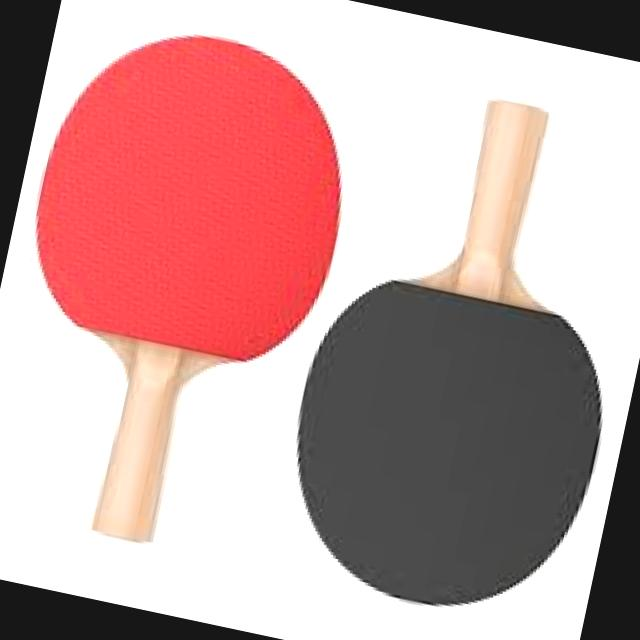TT Racket: (238, 219, 640, 640), (0, 0, 402, 415)
